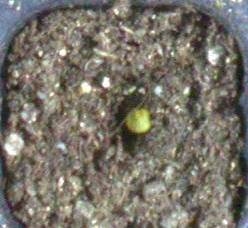chilli seed: (126, 108, 151, 133)
